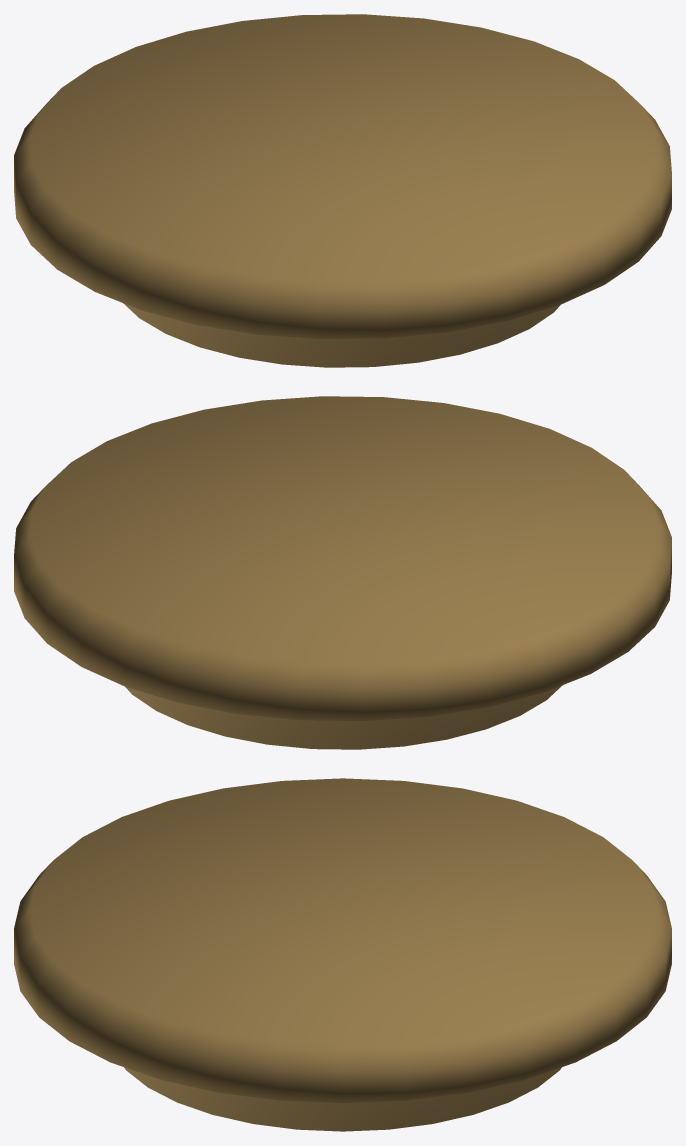
File: Jam jar Top.fbx
3 views of the same model, one above another, from view 1: azimuth 30°, elevation 25°; view 2: azimuth 150°, elevation 25°; view 3: azimuth 270°, elevation 25° (orthographic).
Visible parts, largest first — view 1: Cylinder.002; view 2: Cylinder.002; view 3: Cylinder.002.
Part boxes in pixels (x1=…): Cylinder.002: x1=14, y1=14, x2=671, y2=367; Cylinder.002: x1=14, y1=396, x2=671, y2=749; Cylinder.002: x1=14, y1=778, x2=671, y2=1131.
Size of the model in its own units: 273 by 55.66 by 273.
